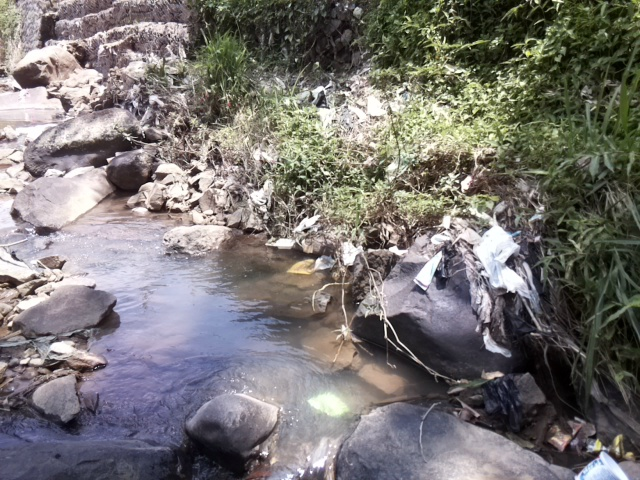Sampah_Styrofoam: (576, 449, 628, 480)
